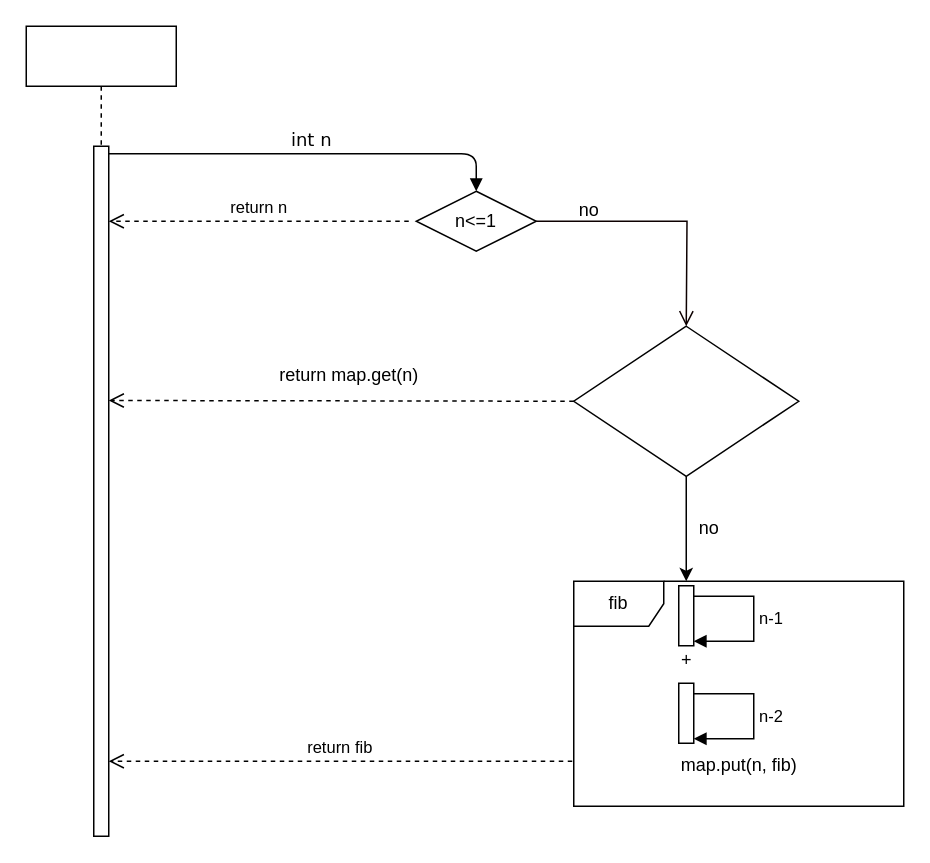
The diagram is 930 pixels wide and 863 high, and some of its shapes have lost their labels. Here are the shapes that lost their labels. From the top down, the centre of each, then its label:
At (x=100, y=85): "fibonacciDynamic".
At (x=685, y=400): "map.containsKey(n)".
